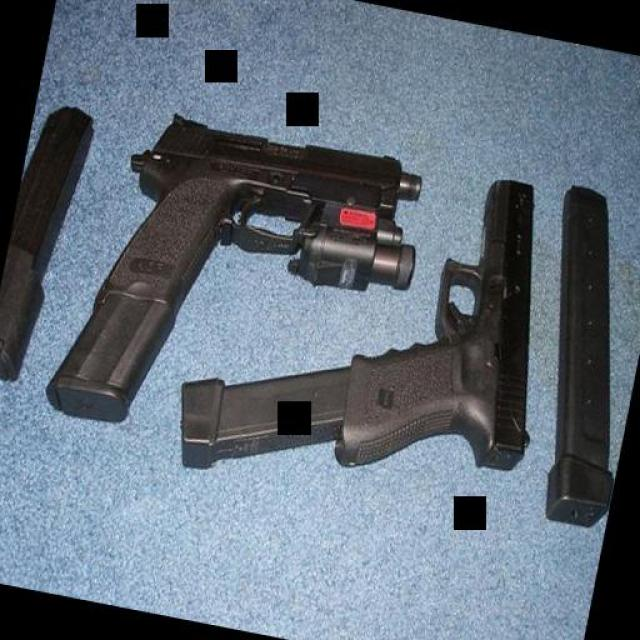gun: (91, 101, 436, 356), (328, 152, 578, 502)
